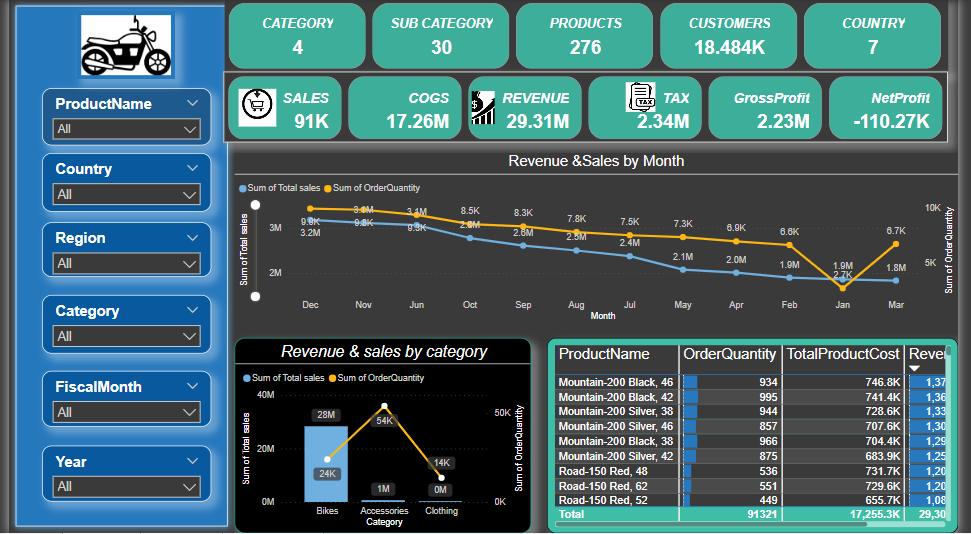

Layout of this report page (visuals, bound fields, positions):
{"tool":"powerbi","page":{"name":"Home","canvas":[1280,720],"ordinal":1},"visuals":[{"type":"shape","box":[0,0,303.8,720],"z":0},{"type":"slicer","fields":{"Values":["Dim_Products.ProductName"]},"box":[43.9,119.4,228.3,77.3],"z":1000},{"type":"slicer","fields":{"Values":["Dim_Territories.Country"]},"box":[43.9,207.2,228.3,79],"z":2000},{"type":"slicer","fields":{"Values":["Dim_Territories.Region"]},"box":[43.9,300.3,228.3,73.8],"z":3000},{"type":"slicer","fields":{"Values":["Dim_Products.Category"]},"box":[43.9,398.6,228.3,79],"z":4000},{"type":"slicer","fields":{"Values":["Dim_Calendar.FiscalMonth"]},"box":[43.9,500.5,228.3,75.5],"z":5000},{"type":"slicer","fields":{"Values":["Dim_Calendar.Year"]},"box":[43.9,602.3,228.3,75.5],"z":6000},{"type":"tableEx","fields":{"Values":["Dim_Products.ProductName","Sum(Sales_Facts.OrderQuantity)","Sum(Sales_Facts.TotalProductCost)","Sum(Sales_Facts.SalesAmount)","Measure.Net Profit"]},"box":[725.1,456.7,554.6,263.9],"z":7000},{"type":"cardVisual","fields":{"Data":["Count(Dim_Products.Category)","Count(Dim_Products.SubCategory)","Count(Dim_Products.ProductName)","Count(Dim_Customers.CustomerKey)","Count(Dim_Territories.Country)"]},"box":[290.9,0,975.3,99.2],"z":8000},{"type":"cardVisual","fields":{"Data":["Sum(Sales_Facts.OrderQuantity)","Sum(Sales_Facts.TotalProductCost)","Sum(Sales_Facts.SalesAmount)","Sum(Sales_Facts.TaxAmt)","Measure.GrossProfit","Sales_Facts.GrossProfit minus TaxAmt"]},"box":[289.8,98.1,976.7,95.8],"z":9000},{"type":"image","box":[91.3,15.8,131.7,91.3],"z":10000},{"type":"image","box":[618.4,118.7,41.1,54.8],"z":11000},{"type":"image","box":[303.5,116.4,61.6,61.6],"z":12000},{"type":"image","box":[826.1,107.3,50.2,50.2],"z":13000},{"type":"lineStackedColumnComboChart","title":"Revenue & sales by category","fields":{"Category":["Dim_Products.Category"],"Y2":["Sum(Sales_Facts.OrderQuantity)"],"Y":["Sum(Sales_Facts.Total sales)"]},"box":[303.8,456.6,400.4,263.4],"z":14000},{"type":"lineChart","title":"Revenue  &Sales by Month","fields":{"Category":["Dim_Calendar.Month"],"Y":["Sum(Sales_Facts.Total sales)"],"Y2":["Sum(Sales_Facts.OrderQuantity)"]},"box":[304,207.6,975.7,229.8],"z":15000}]}

Visuals, with their boxes in screenshot pixels (x1, y1, x2, y2), scaled from the page's 1280x720 canvas onto the 971x534 screenshot:
shape: rect(0, 0, 230, 533)
slicer - Dim_Products.ProductName: rect(33, 89, 206, 146)
slicer - Dim_Territories.Country: rect(33, 154, 206, 212)
slicer - Dim_Territories.Region: rect(33, 223, 206, 277)
slicer - Dim_Products.Category: rect(33, 296, 206, 354)
slicer - Dim_Calendar.FiscalMonth: rect(33, 371, 206, 427)
slicer - Dim_Calendar.Year: rect(33, 447, 206, 503)
tableEx - Dim_Products.ProductName x Sum(Sales_Facts.OrderQuantity): rect(550, 339, 970, 533)
cardVisual - Count(Dim_Products.Category) x Count(Dim_Products.SubCategory): rect(221, 0, 961, 74)
cardVisual - Sum(Sales_Facts.OrderQuantity) x Sum(Sales_Facts.TotalProductCost): rect(220, 73, 961, 144)
image: rect(69, 12, 169, 79)
image: rect(469, 88, 500, 129)
image: rect(230, 86, 277, 132)
image: rect(627, 80, 665, 117)
"Revenue & sales by category" lineStackedColumnComboChart: rect(230, 339, 534, 533)
"Revenue  &Sales by Month" lineChart: rect(231, 154, 970, 324)
